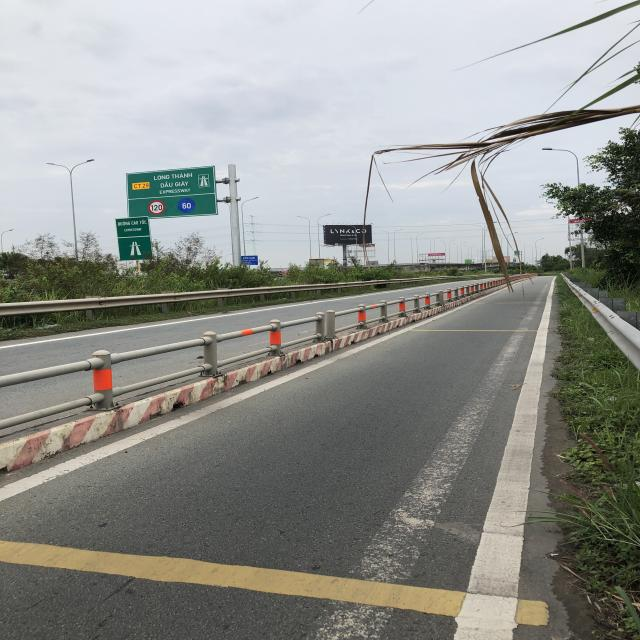Bien bao toc do toi thieu cho phep: (177, 197, 196, 214)
